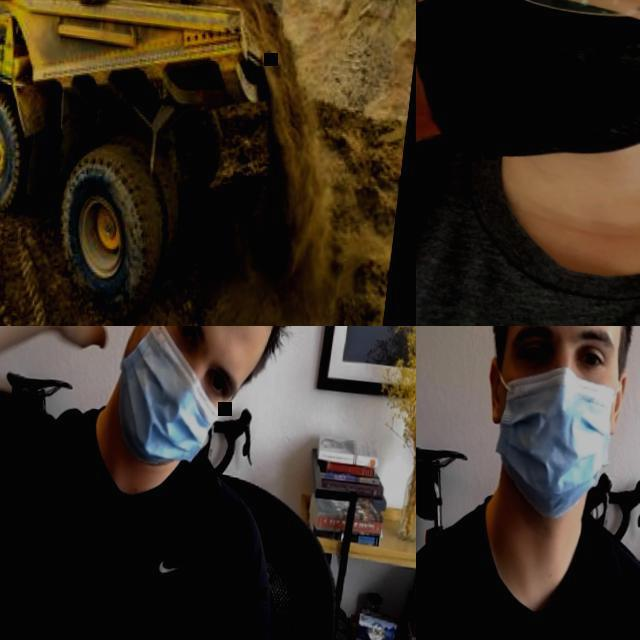machinery: (0, 0, 319, 326), (0, 0, 285, 326)
mask: (416, 0, 640, 184), (483, 365, 622, 530), (112, 326, 245, 471)
no_vest: (0, 426, 258, 640), (416, 118, 640, 326), (416, 503, 640, 640)
person: (0, 326, 353, 640), (416, 0, 640, 326), (416, 326, 640, 640)
